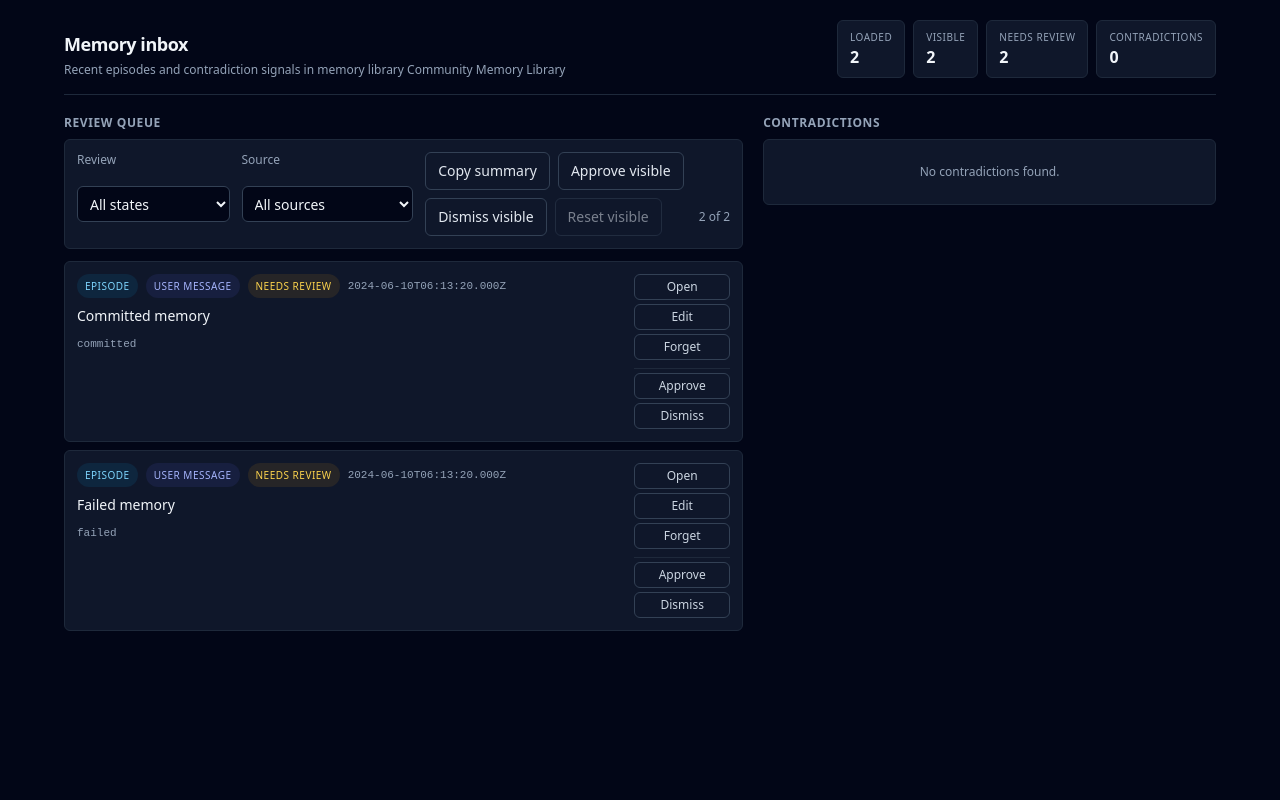
InboxView › refreshes the inbox after a partially successful bulk review
Check: the text "Committed memory" is shown, box [77,306,210,325]
Click the button "Approve visible".
click(621, 171)  # box [558,152,684,190]
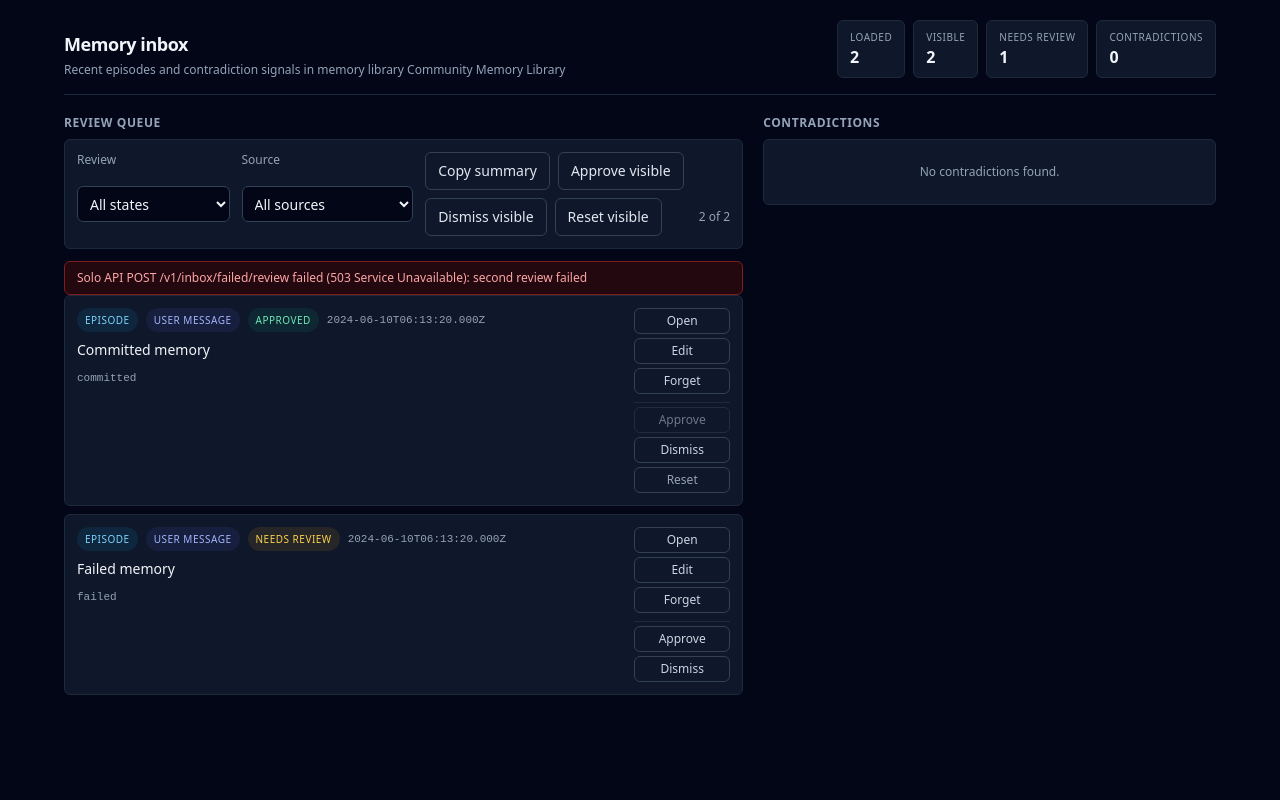
Check: the list item "Failed memory" shows "needs review", box [256,532,332,546]
Check: the message shows "second review failed", box [77,269,587,286]
Check: the list item "Committed memory" shows "approved", box [256,313,311,327]
